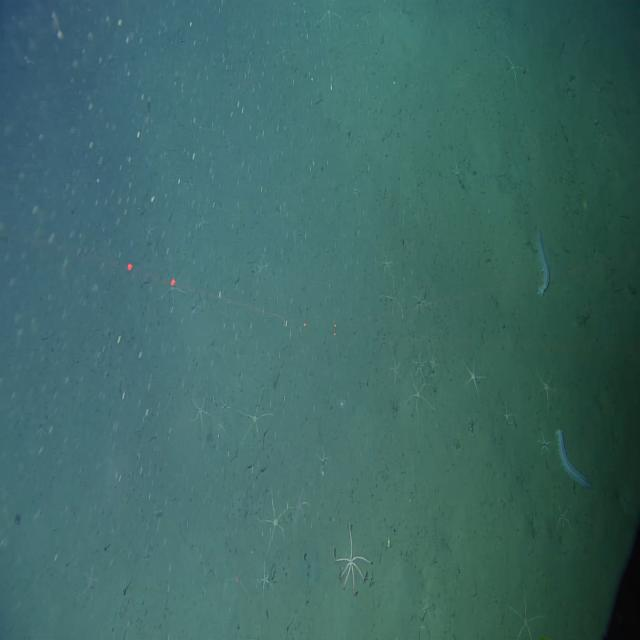Brittle Star: (255, 486, 292, 554), (235, 385, 276, 446), (186, 387, 215, 432)
